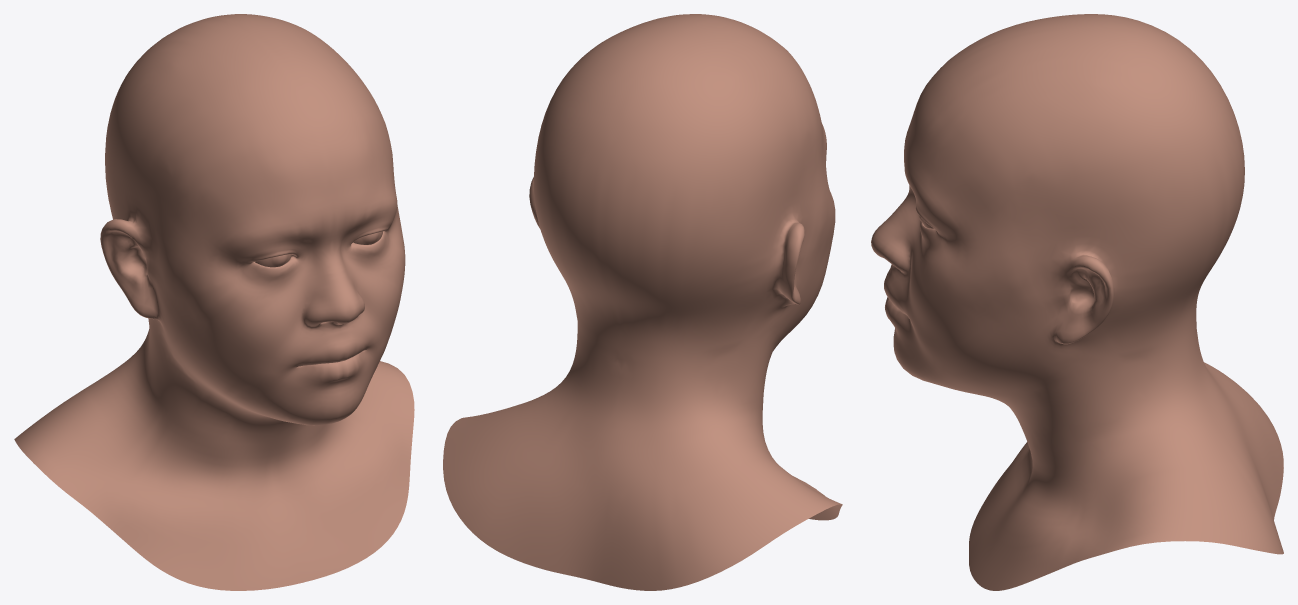
The model's file is gnm_female_asian_02.obj.
3 renders of one model, left to right at view 1: azimuth 30°, elevation 25°; view 2: azimuth 150°, elevation 25°; view 3: azimuth 270°, elevation 25°, orthographic. The views are drawn at different scales.
Visible parts, largest first — view 1: GNM_Female_Asian; view 2: GNM_Female_Asian; view 3: GNM_Female_Asian.
Part boxes in pixels (x1,y1,x2,y2): GNM_Female_Asian: (14,14,414,590); GNM_Female_Asian: (443,14,842,590); GNM_Female_Asian: (871,14,1283,590).
Bounding box in the file's own units: 0.2568 × 0.338 × 0.2398.
